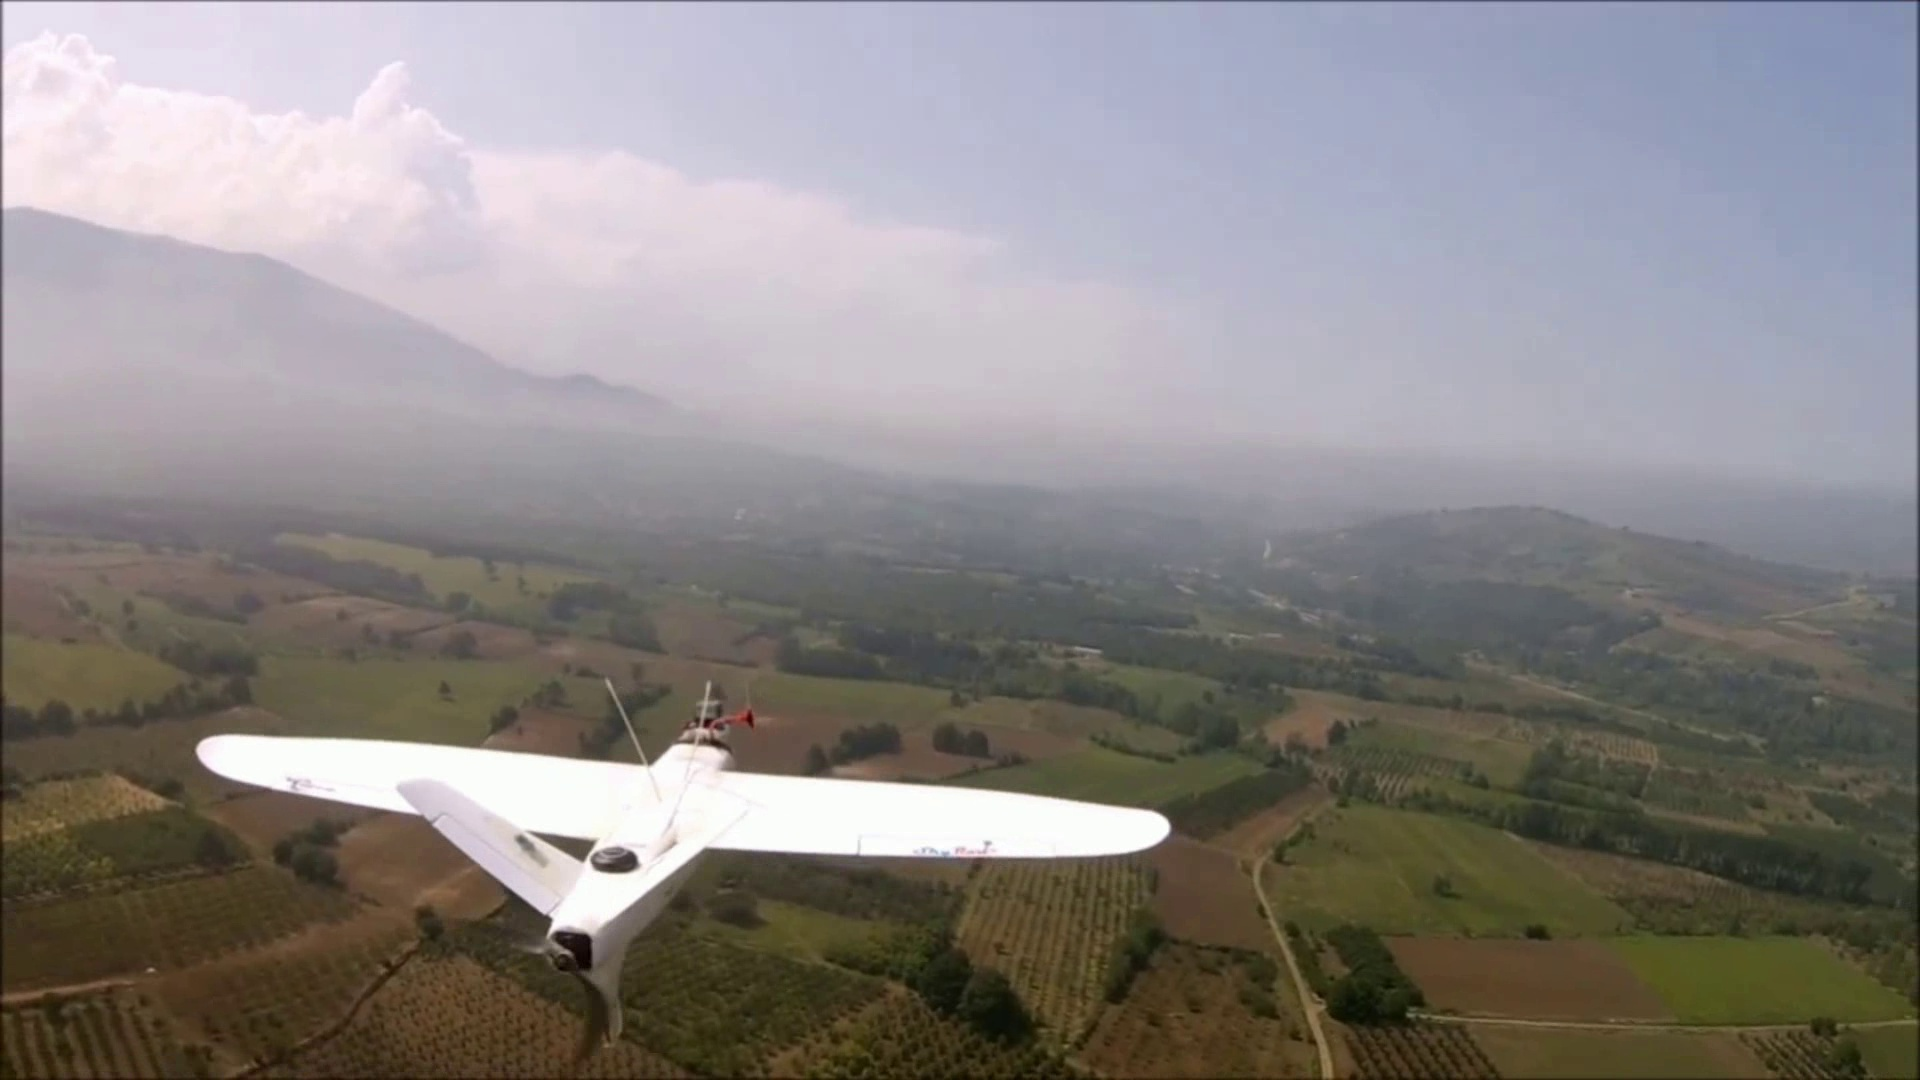airplane: (196, 698, 1171, 1057)
